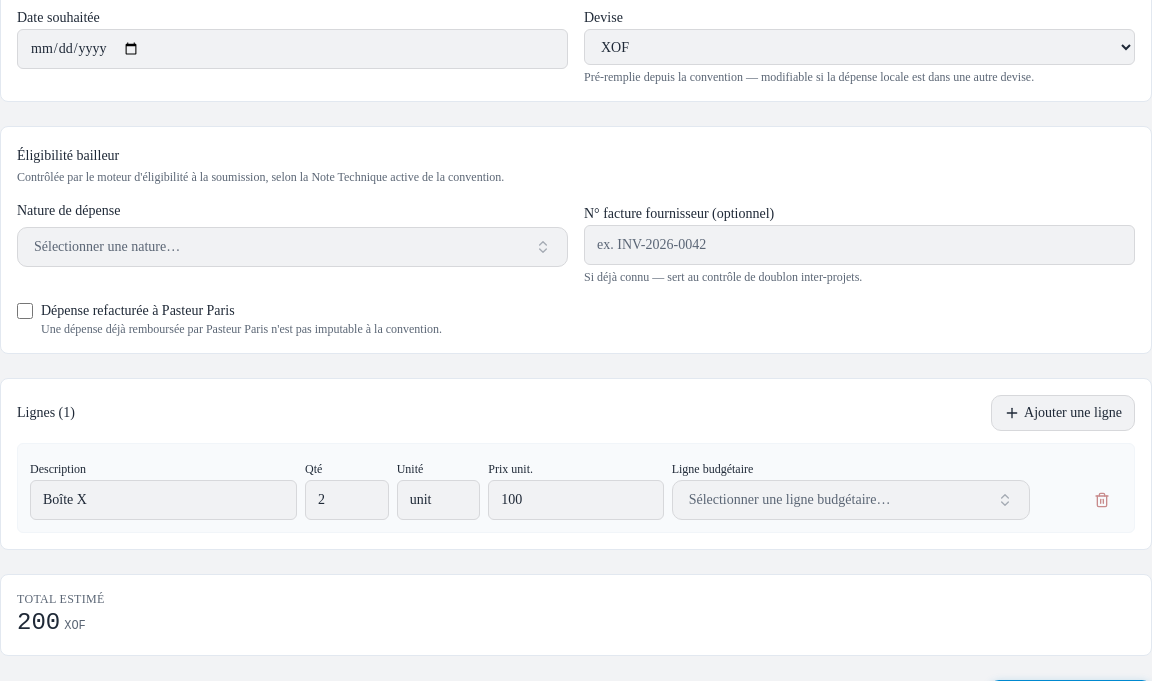
PurchaseRequestForm › allows adding and removing lines
The image size is (1152, 681).
(page scrolled)
Expected: the element with test id "pr-line-0" is shown, [17,443,1135,533]
Click the button with test id "add-line" at x=1063, y=413, box [991,395,1135,431]
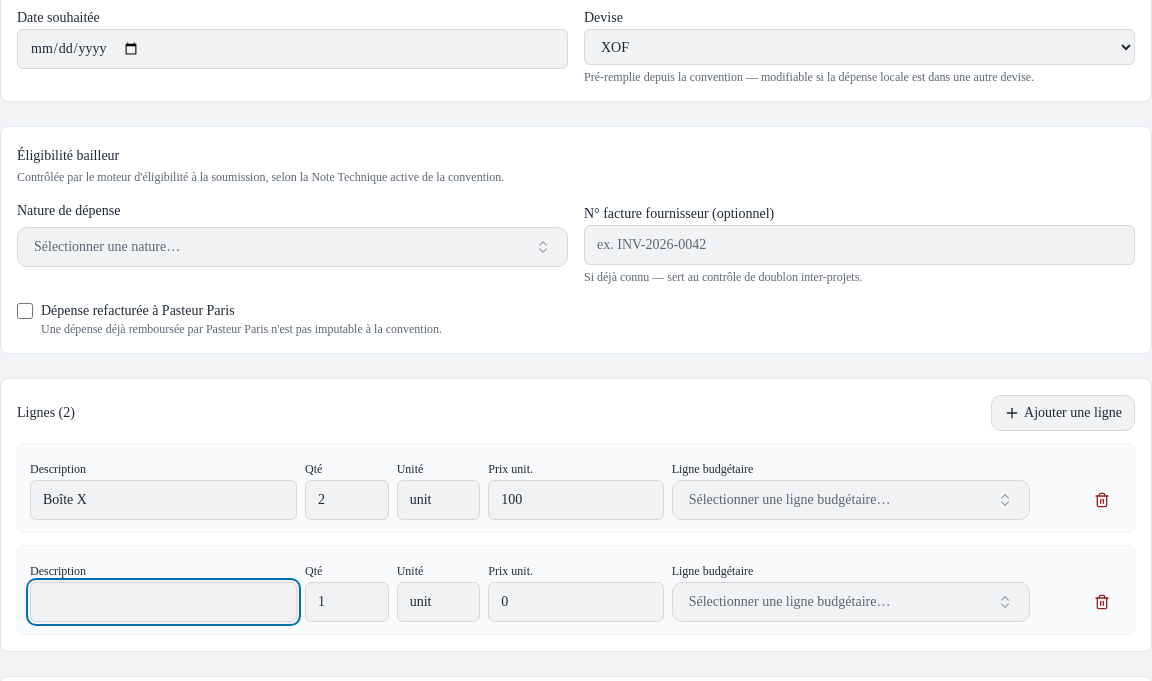
Now the element with test id "pr-line-1" is shown, box [17,545,1135,635]
Click the button with test id "remove-line-1" at x=1102, y=602, box [1082,582,1122,622]
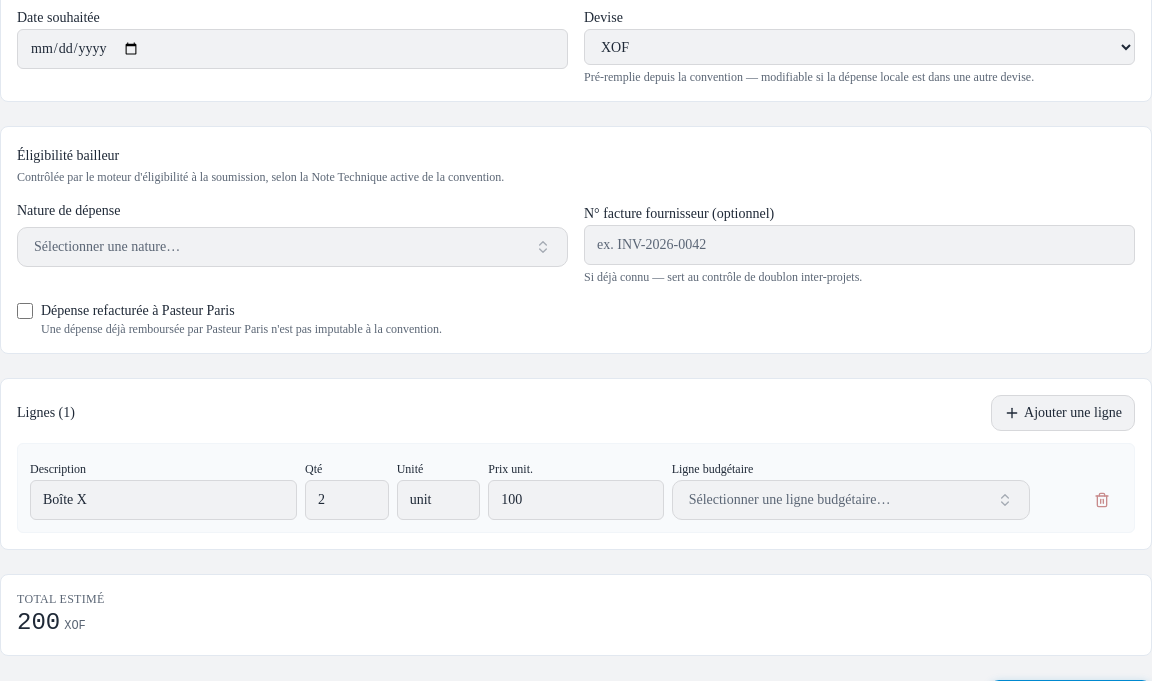
Now the element with test id "pr-line-1" is gone
